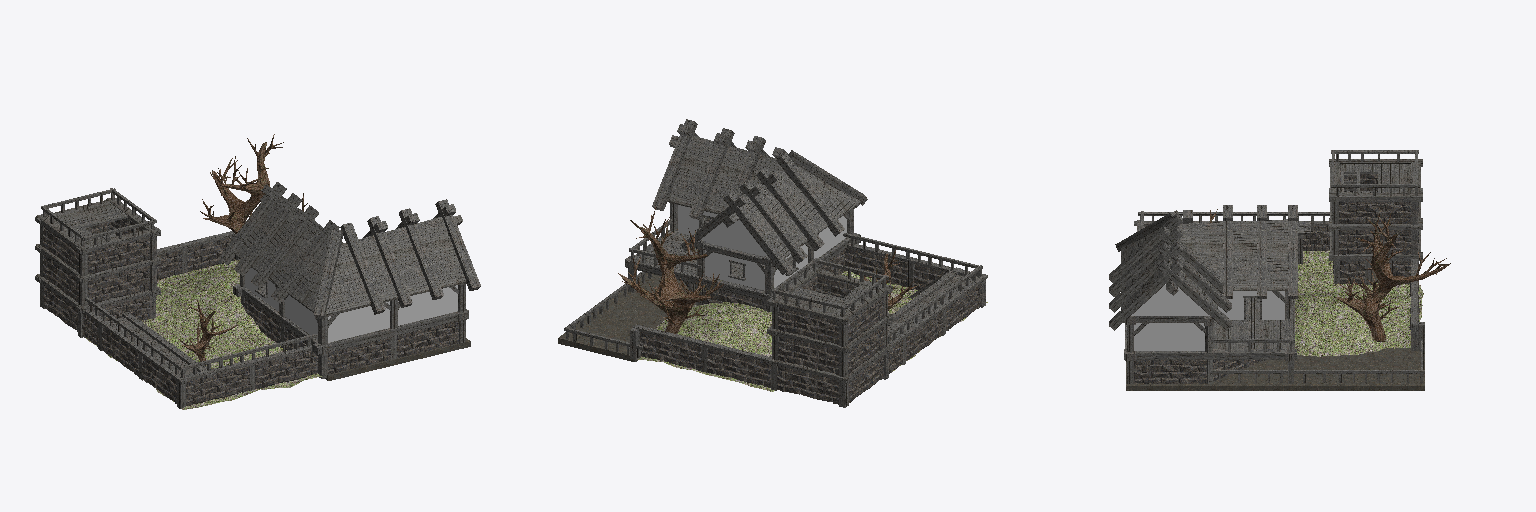
3 renders of one model, left to right at view 1: azimuth 30°, elevation 25°; view 2: azimuth 150°, elevation 25°; view 3: azimuth 270°, elevation 25°, orthographic.
Visible parts, largest first — view 1: Cube, Cube.001_Cube.003, Cube.001_Cube.000, Cube.001_Cube.001; view 2: Cube, Cube.001_Cube.003, Cube.001_Cube.000; view 3: Cube, Cube.001_Cube.003, Cube.001_Cube.000.
Part boxes in pixels (x1,y1,x2,y2): Cube: (35,182,480,408); Cube.001_Cube.003: (86,260,321,409); Cube.001_Cube.000: (200,134,307,233); Cube.001_Cube.001: (177,300,237,365); Cube: (558,119,987,407); Cube.001_Cube.003: (637,271,987,391); Cube.001_Cube.000: (618,207,723,333); Cube: (1109,150,1424,390); Cube.001_Cube.003: (1295,251,1423,356); Cube.001_Cube.000: (1335,213,1450,341).
Size of the model in its own units: 23.83 by 10.41 by 23.51.
7 materials, 5 textured.